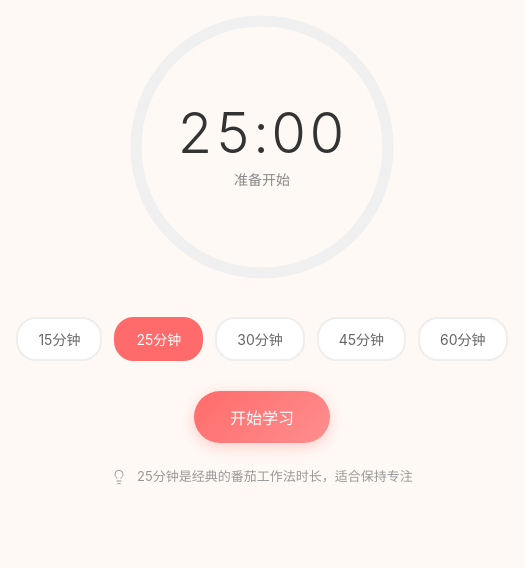
Test: Timer Component › 时间选择 › 计时中不应该能切换时间
Click the button "开始学习" at (262, 417), box [194,391,330,443]
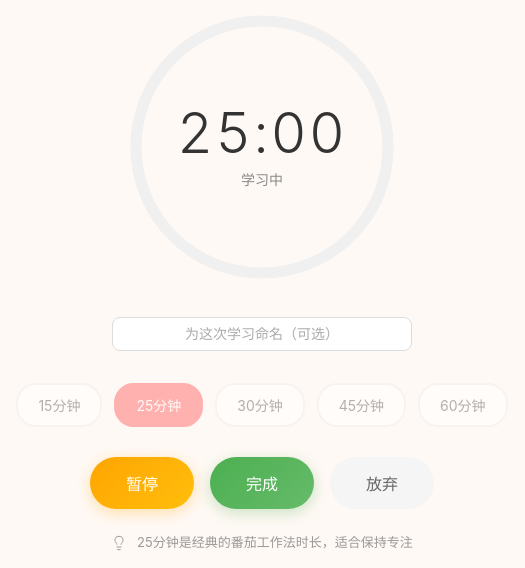
expect the button "15分钟" is disabled: met, box [16,383,102,427]
